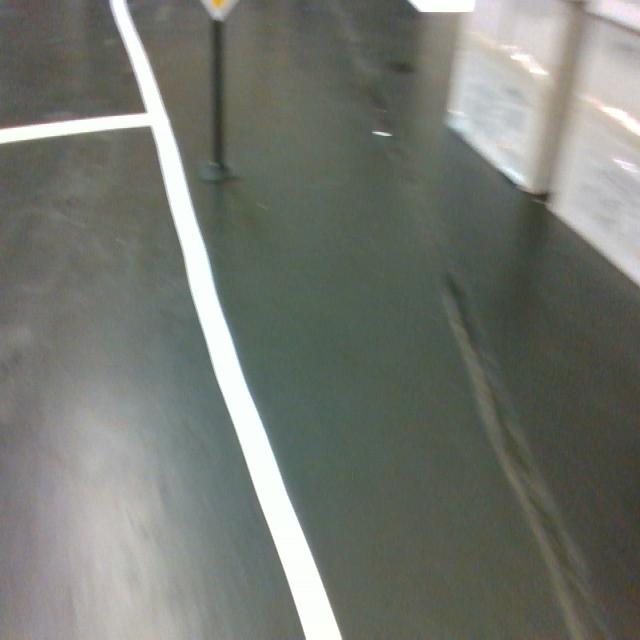priority-sign: (197, 0, 242, 25)
